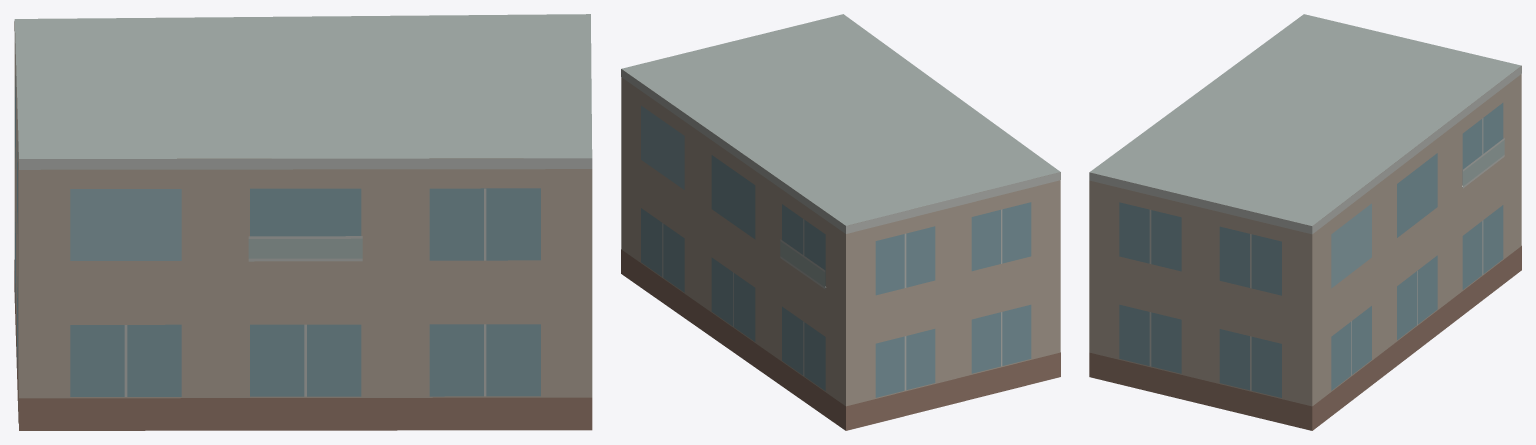
The model's file is survey-upis-32788302.glb.
3 views of the same model, side by side, from view 1: azimuth 30°, elevation 25°; view 2: azimuth 150°, elevation 25°; view 3: azimuth 270°, elevation 25° (orthographic). The views are drawn at different scales.
Visible parts, largest first — view 1: survey-upis-32788302.tmp; view 2: survey-upis-32788302.tmp; view 3: survey-upis-32788302.tmp.
Part boxes in pixels (bbox=[...]): survey-upis-32788302.tmp: bbox=[14, 14, 592, 430]; survey-upis-32788302.tmp: bbox=[621, 14, 1060, 430]; survey-upis-32788302.tmp: bbox=[1089, 14, 1521, 430].
Bounding box in the file's own units: 13.57 × 6.1 × 11.69.
